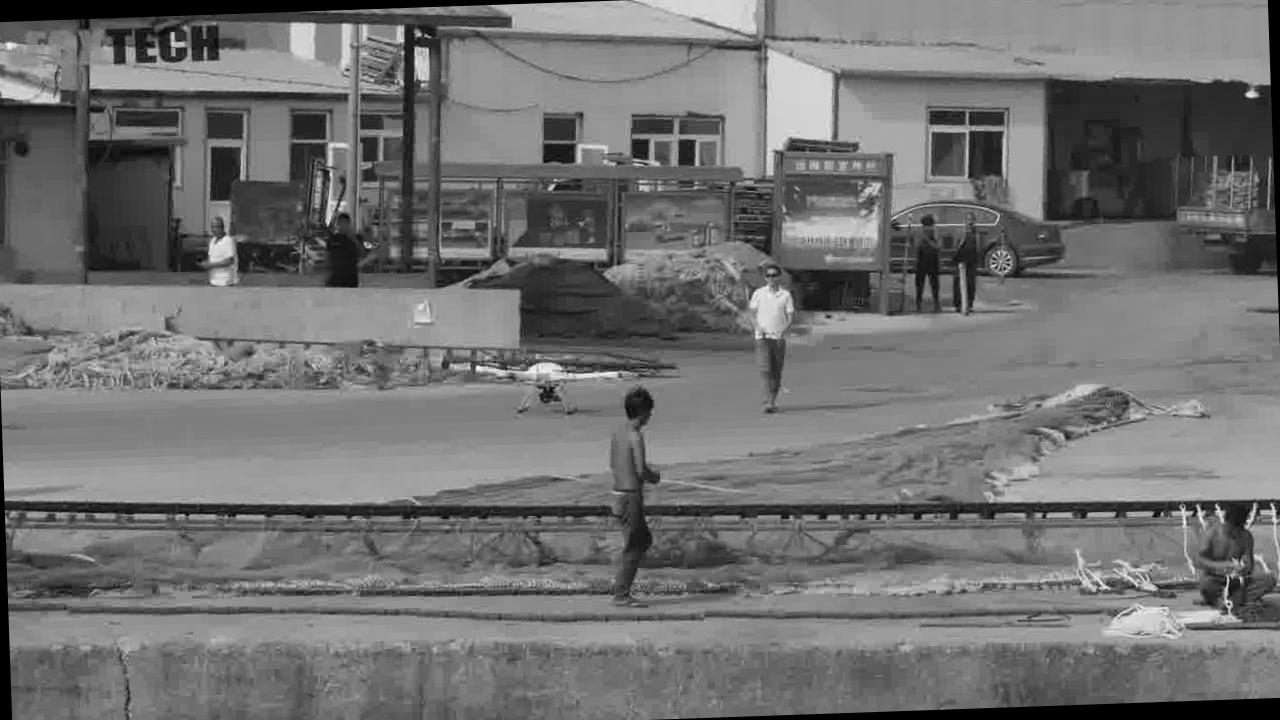drone: (462, 352, 632, 412)
